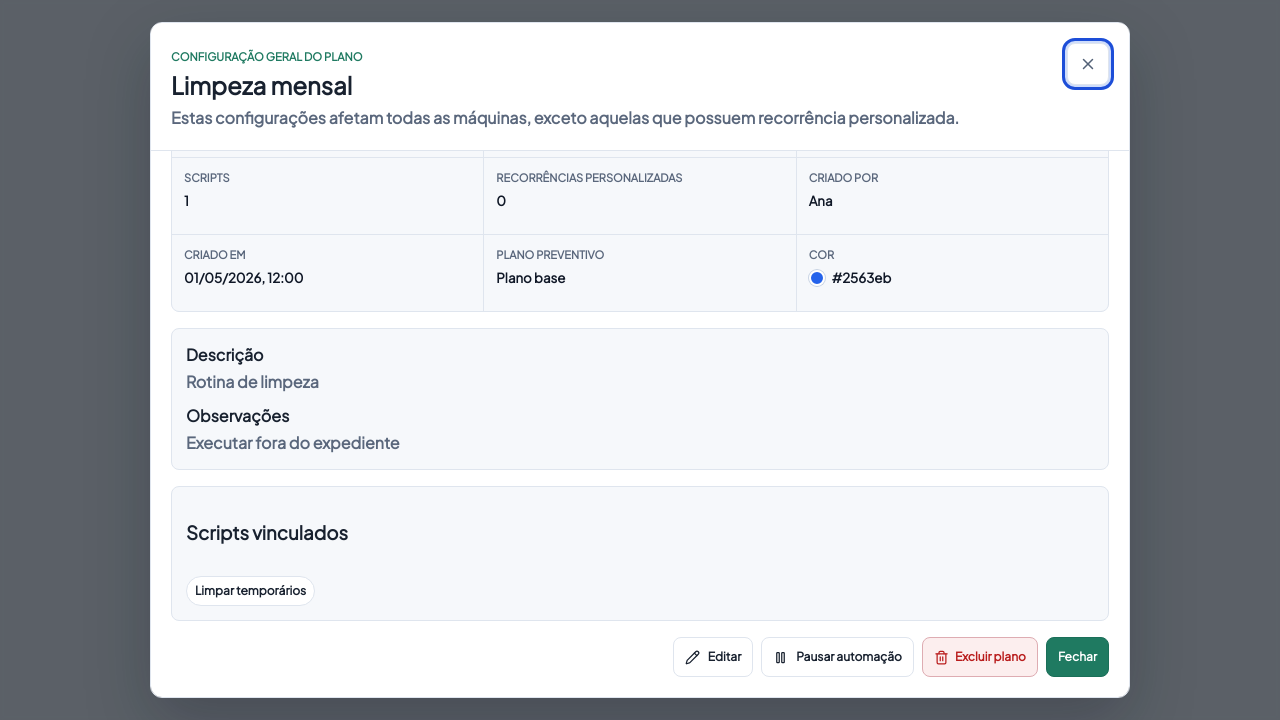
Test case: AutomationPlanDetails - pausar, reativar e excluir › volta da confirmação de exclusão sem excluir
(page scrolled)
What coordinates should you click on to do the following:
click the button "Excluir plano"
I would click on:
 (980, 657)
Its box is [922, 637, 1038, 677].
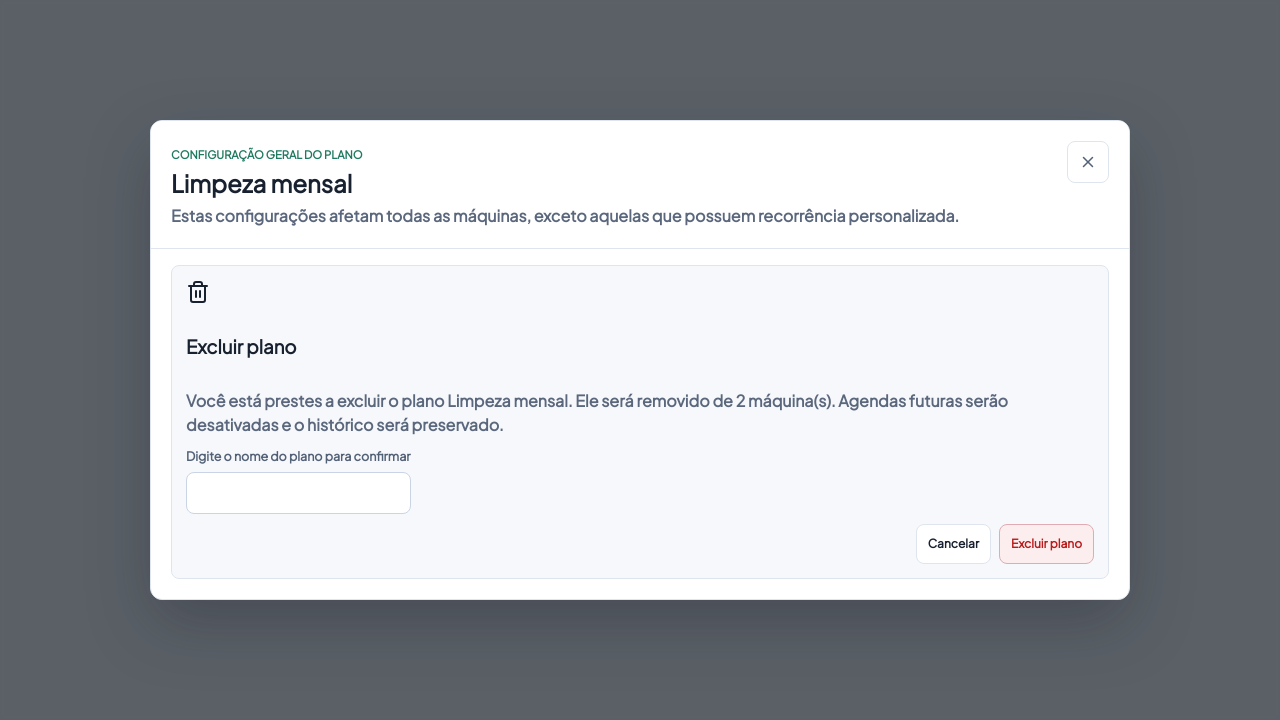
What coordinates should you click on to do the following:
click the button "Cancelar"
I would click on:
 (953, 544)
Its box is [916, 524, 991, 564].
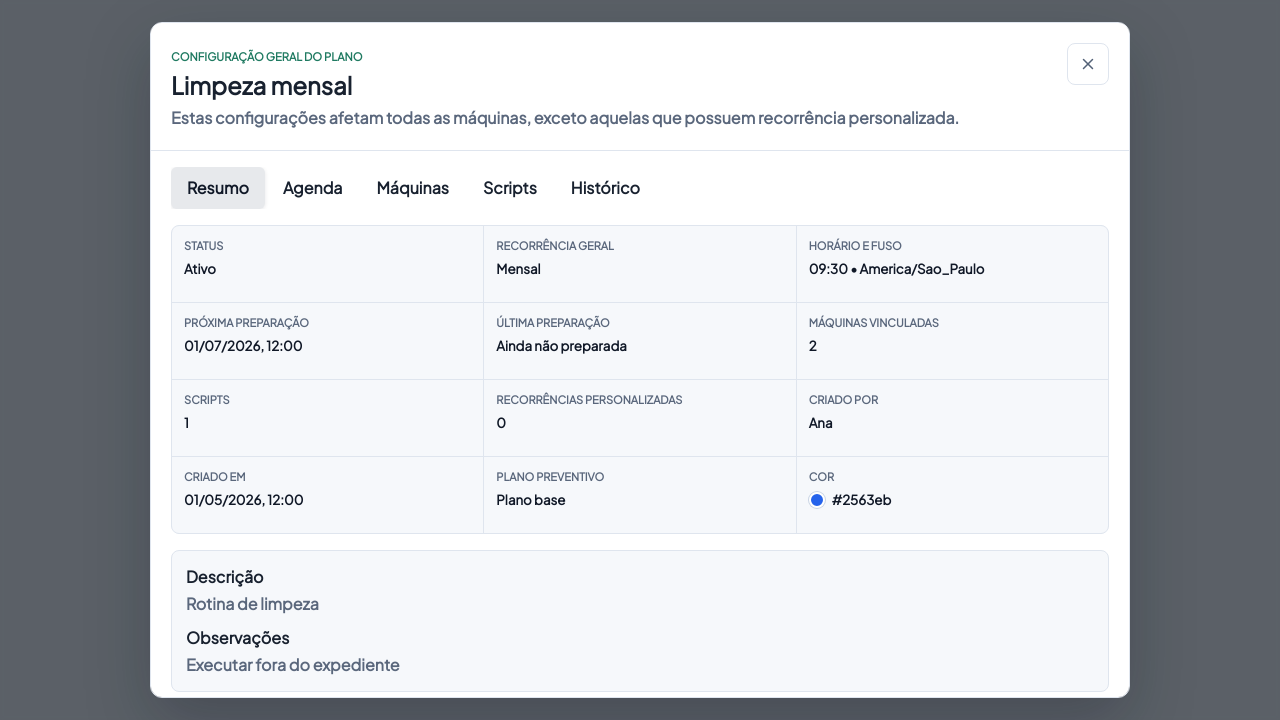
Check: the navigation bar is shown, box [171, 167, 656, 209]
